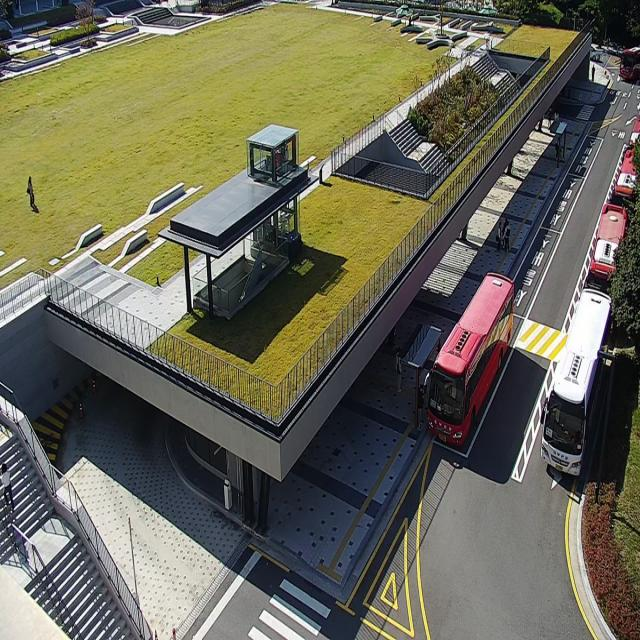queue: (416, 332, 441, 434)
